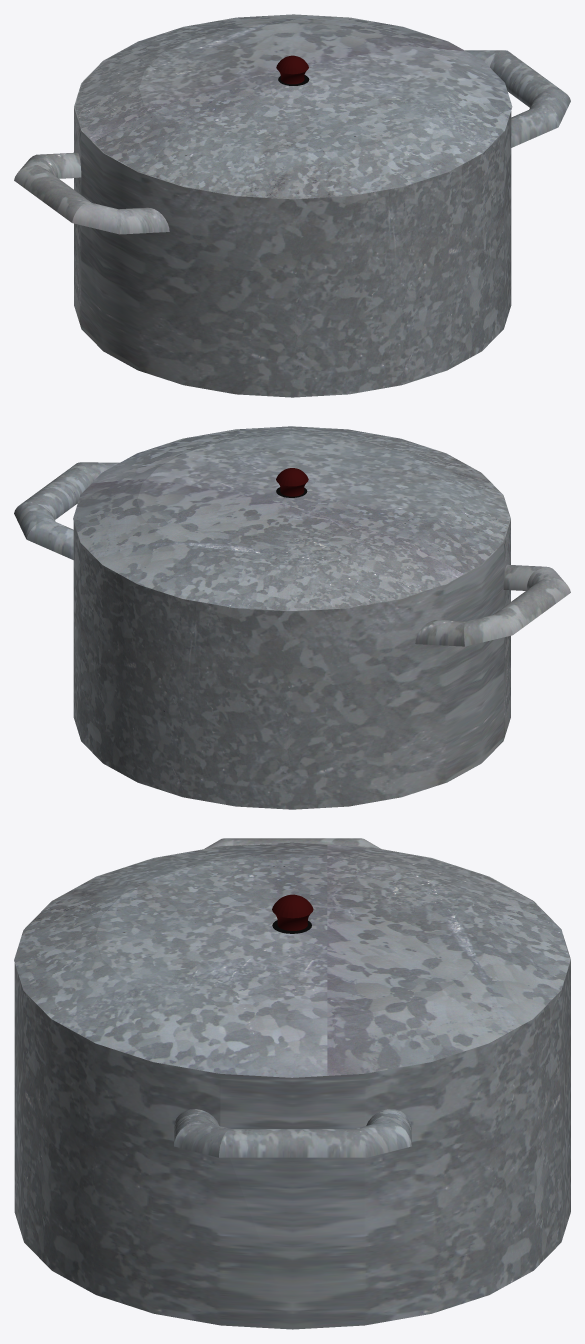
The model's file is Cookingpot_2.dae.
3 renders of one model, top to bottom at view 1: azimuth 30°, elevation 25°; view 2: azimuth 150°, elevation 25°; view 3: azimuth 270°, elevation 25°, orthographic. The views are drawn at different scales.
Visible parts, largest first — view 1: SketchUp (×3); view 2: SketchUp (×3); view 3: SketchUp (×3).
Part boxes in pixels (box(x1,y1,x2,y2)): SketchUp (×3): box(14, 14, 570, 397); SketchUp (×3): box(14, 426, 570, 809); SketchUp (×3): box(14, 838, 570, 1329).
Bounding box in the file's own units: 18.44 × 14.01 × 8.75.
Materials: 4 (1 with a texture image).
